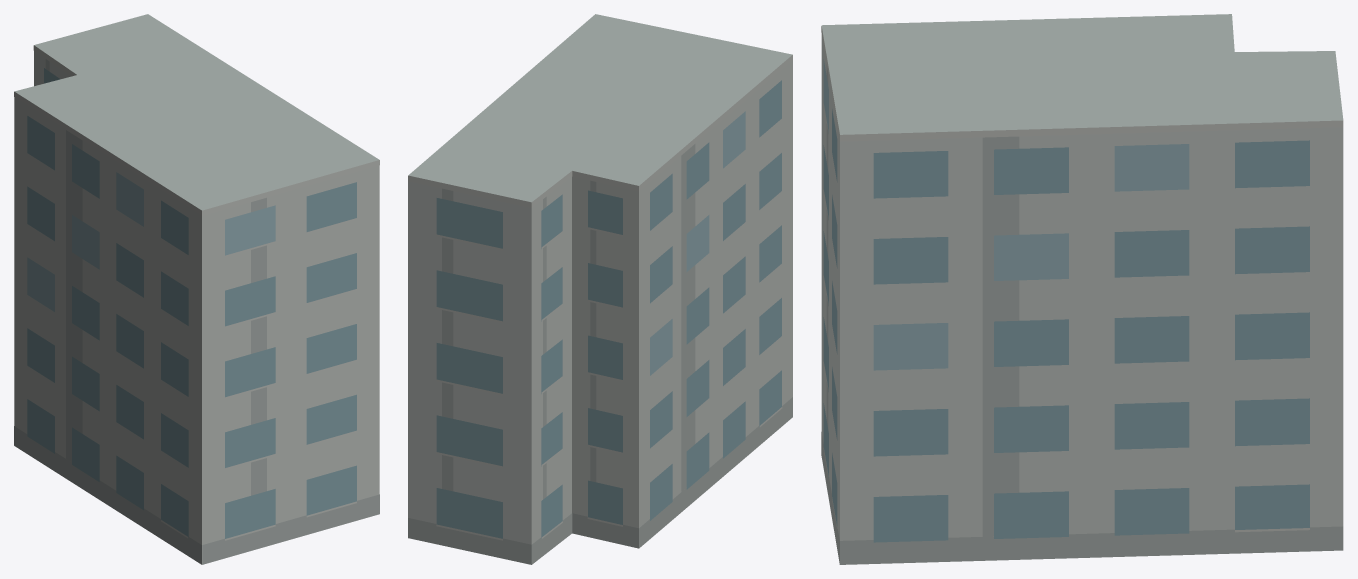
The model's file is survey-upis-32740682.glb.
3 views of the same model, side by side, from view 1: azimuth 30°, elevation 25°; view 2: azimuth 150°, elevation 25°; view 3: azimuth 270°, elevation 25° (orthographic). The views are drawn at different scales.
Parts seen in each view (by area): view 1: survey-upis-32740682.tmp; view 2: survey-upis-32740682.tmp; view 3: survey-upis-32740682.tmp.
Part boxes in pixels (box(x1,y1,x2,y2)): survey-upis-32740682.tmp: box(14, 14, 379, 564); survey-upis-32740682.tmp: box(408, 14, 792, 564); survey-upis-32740682.tmp: box(821, 14, 1343, 564).
Size of the model in its own units: 9.35 by 15.5 by 17.06.
